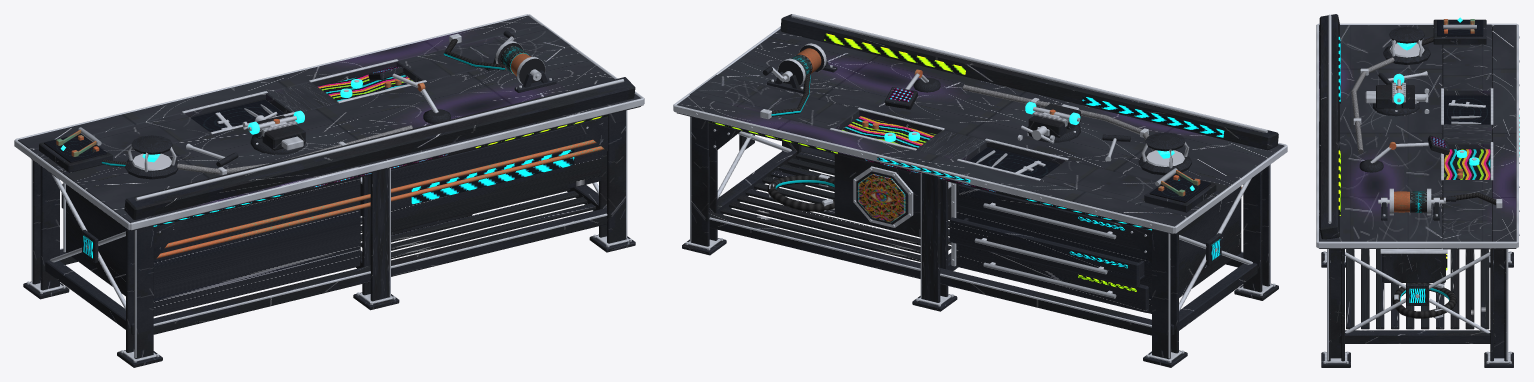
File: keeper-repair-station-v2.glb
3 views of the same model, side by side, from view 1: azimuth 30°, elevation 25°; view 2: azimuth 150°, elevation 25°; view 3: azimuth 270°, elevation 25° (orthographic). The views are drawn at different scales.
Visible parts, largest first — view 1: Station_BlackenedSteelCarcass, Station_ScarredSteelDeck, Station_MachinedAlloyHardware, Station_AcidCyberEnamel, Station_OxidizedCopperBus, Station_ExposedServiceCables, Station_VorathWovenInsets, RepairCellCore; view 2: Station_BlackenedSteelCarcass, Station_ScarredSteelDeck, Station_MachinedAlloyHardware, Station_AcidCyberEnamel, Station_ExposedServiceCables, Station_VorathMosaicMedallion, Station_VorathWovenInsets, Station_OxidizedCopperBus, RepairCellCore; view 3: Station_ScarredSteelDeck, Station_BlackenedSteelCarcass, Station_MachinedAlloyHardware, Station_AcidCyberEnamel, Station_ExposedServiceCables, Station_VorathWovenInsets, Station_OxidizedCopperBus, RepairCellCore.
Boxes of the visible parts, bbox=[...] form: Station_BlackenedSteelCarcass: bbox=[23, 30, 635, 367]; Station_ScarredSteelDeck: bbox=[18, 15, 640, 230]; Station_MachinedAlloyHardware: bbox=[14, 14, 644, 362]; Station_AcidCyberEnamel: bbox=[44, 67, 607, 258]; Station_OxidizedCopperBus: bbox=[56, 53, 604, 258]; Station_ExposedServiceCables: bbox=[91, 39, 528, 174]; Station_VorathWovenInsets: bbox=[318, 73, 413, 101]; RepairCellCore: bbox=[60, 79, 362, 162]; Station_BlackenedSteelCarcass: bbox=[682, 14, 1278, 367]; Station_ScarredSteelDeck: bbox=[677, 29, 1284, 234]; Station_MachinedAlloyHardware: bbox=[673, 14, 1287, 362]; Station_AcidCyberEnamel: bbox=[708, 33, 1224, 291]; Station_ExposedServiceCables: bbox=[767, 54, 1181, 211]; Station_VorathMosaicMedallion: bbox=[858, 174, 905, 222]; Station_VorathWovenInsets: bbox=[842, 116, 935, 148]; Station_OxidizedCopperBus: bbox=[797, 48, 1241, 196]; RepairCellCore: bbox=[884, 101, 1194, 190]; Station_ScarredSteelDeck: bbox=[1319, 24, 1516, 249]; Station_BlackenedSteelCarcass: bbox=[1319, 14, 1513, 367]; Station_MachinedAlloyHardware: bbox=[1316, 14, 1519, 363]; Station_AcidCyberEnamel: bbox=[1338, 20, 1519, 302]; Station_ExposedServiceCables: bbox=[1351, 31, 1495, 318]; Station_VorathWovenInsets: bbox=[1444, 149, 1490, 179]; Station_OxidizedCopperBus: bbox=[1389, 19, 1474, 212]; RepairCellCore: bbox=[1393, 17, 1479, 165].
Size of the model in its own units: 2.93 by 0.946 by 1.15.
Materials: 9 (8 with a texture image).
